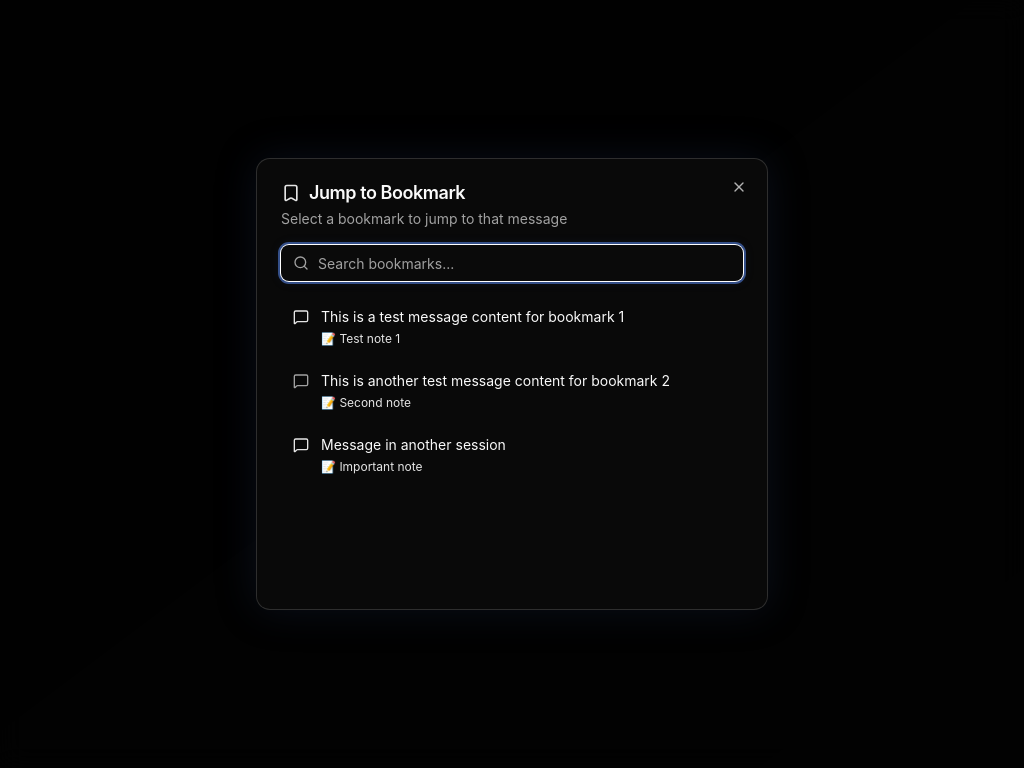
BookmarkJumpDialog › shows no results message when search has no matches
This screenshot has width=1024, height=768.
expect the text "This is a test message content for bookmark 1" is shown: met, box [321,308,624,325]
// Search for something that doesn't exist
Type "nonexistent" into the field with placeholder "Search bookmarks..." at (512, 263), box [281,245,743,281]
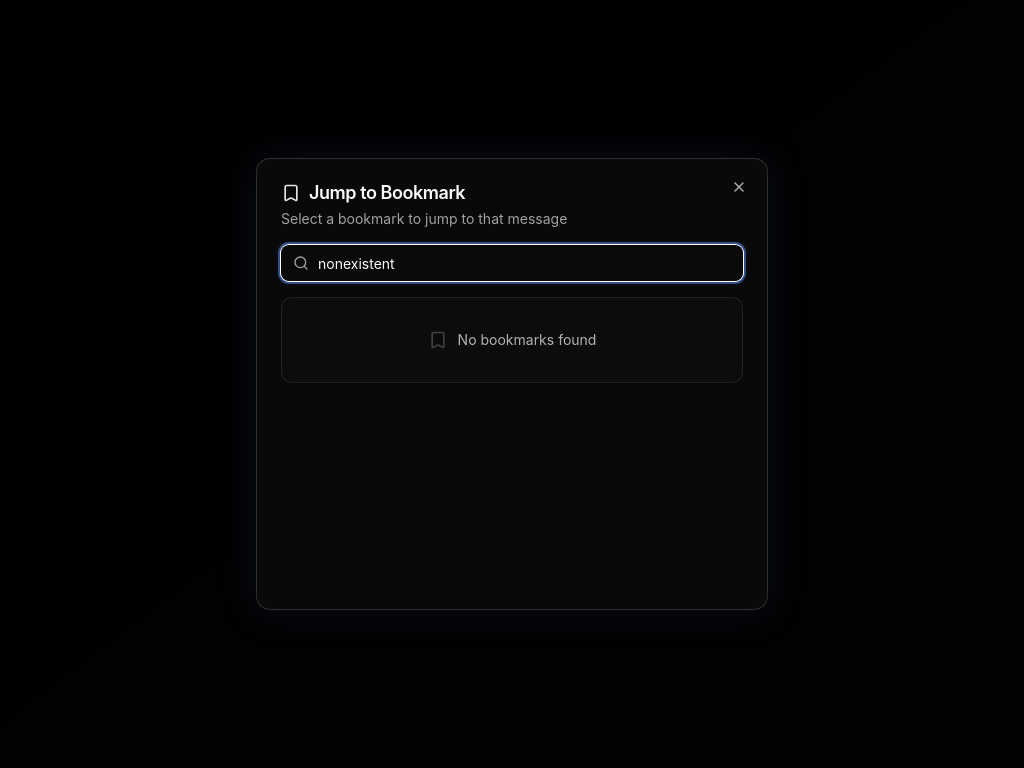
expect the text "No bookmarks found" is shown: met, box [458,330,596,350]
